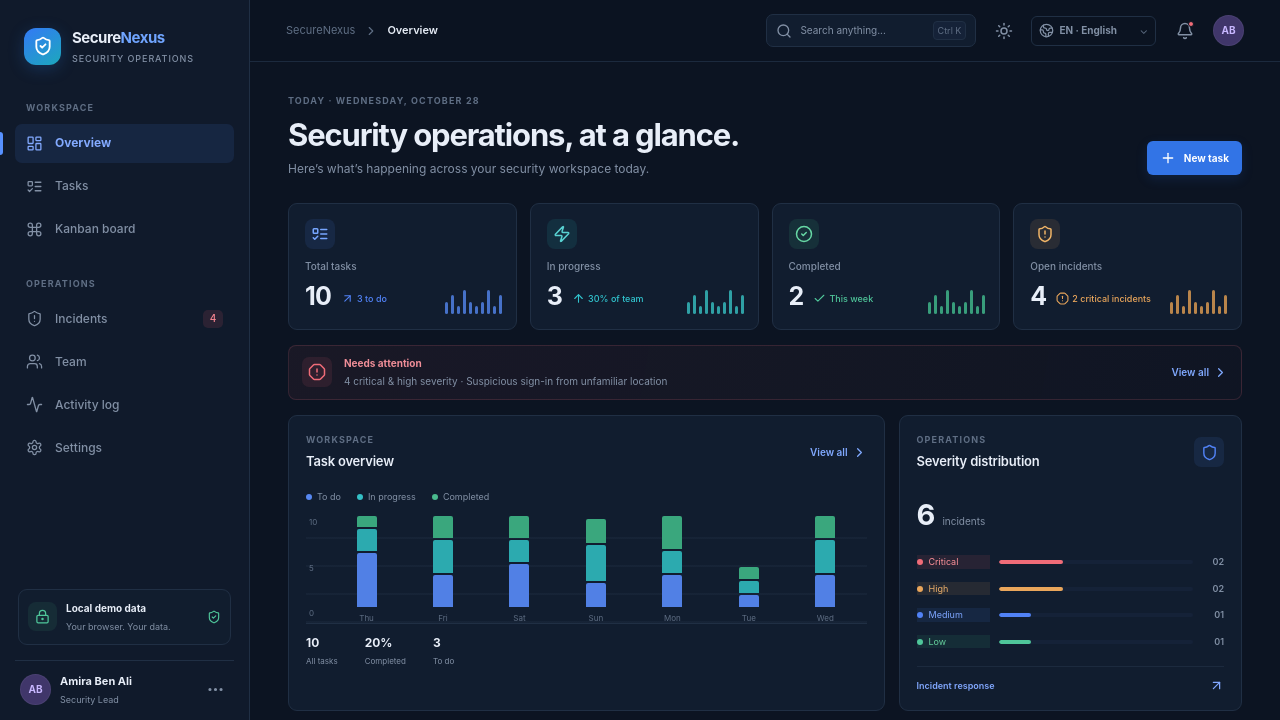
Test: creates a task and saves it to browser storage
Click the button "New task": coordinates (1194, 158) [1147,142,1242,176]
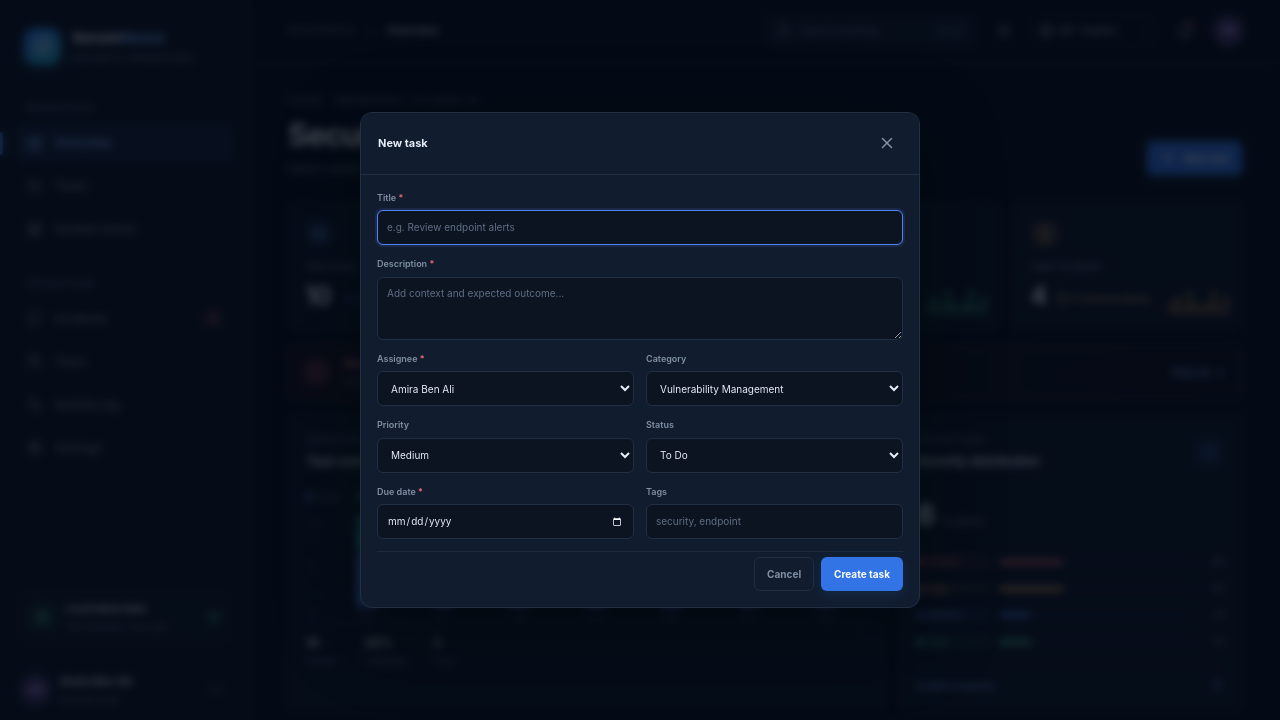
In the field with placeholder "e.g. Review endpoint alerts": coordinates (640, 228) [377,210,903,245], type "Verify backup alerts"
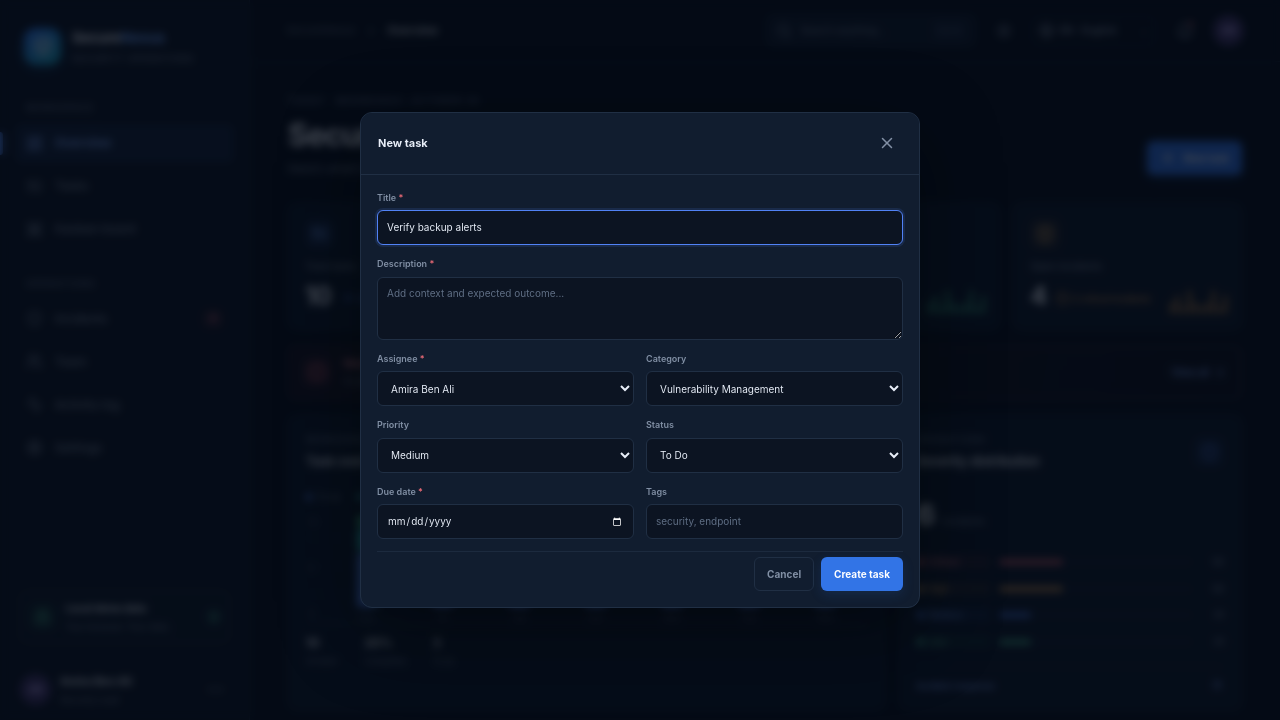
In the text box with placeholder "Add context and expected outcome...": coordinates (640, 308) [377,277,903,340], type "Check the backup monitoring workflow."
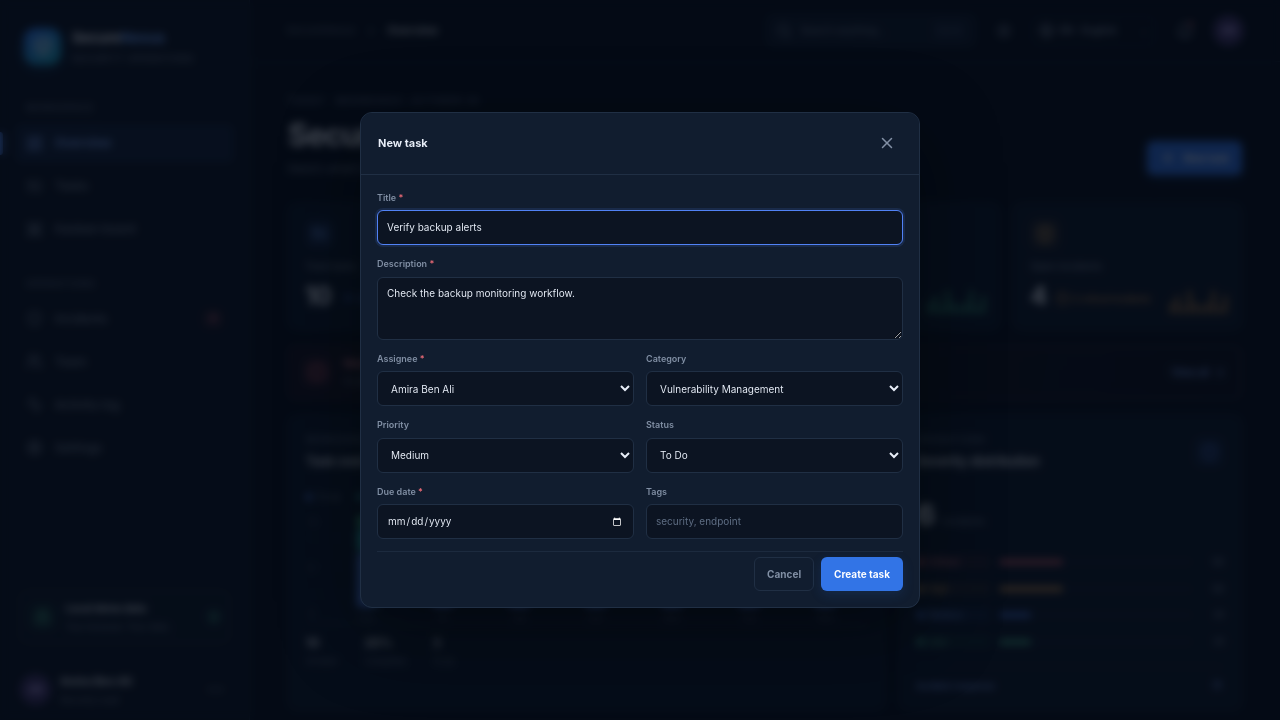
In the date field labelled "Due date *": coordinates (506, 522) [377,504,634,539], type "2026-11-05"
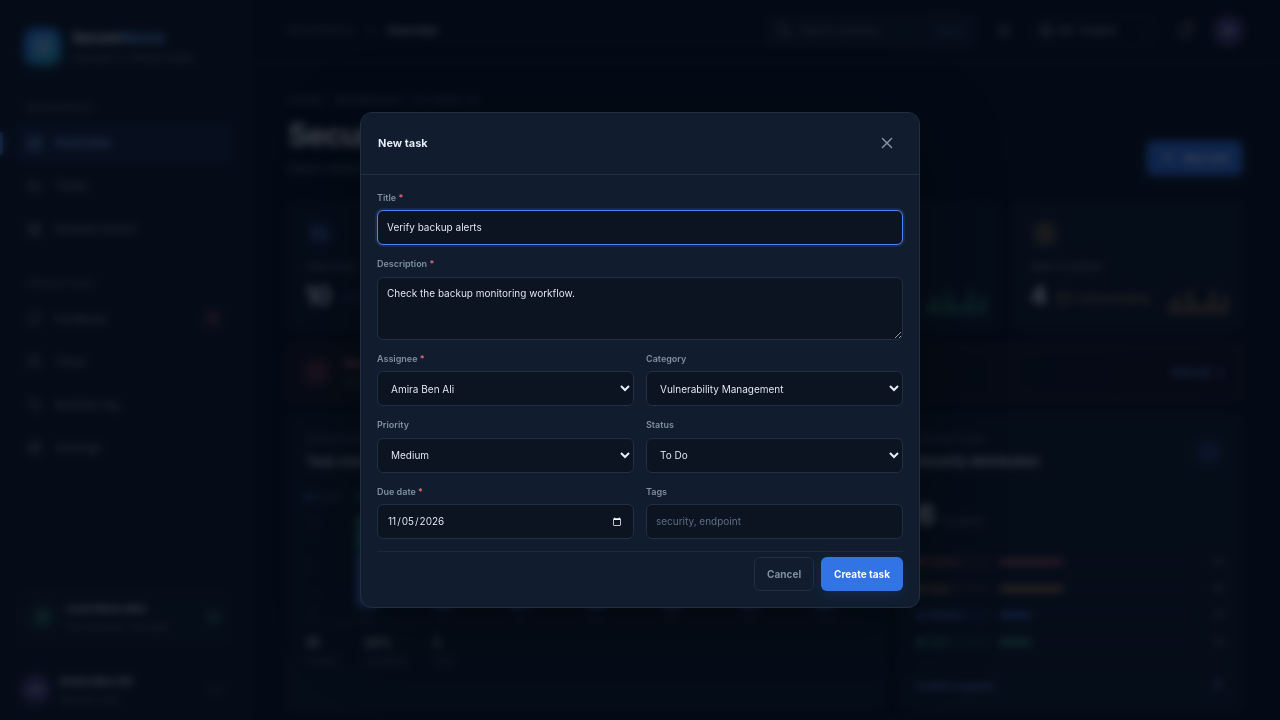
Click the button "Create task": coordinates (862, 574) [821,557,903,591]
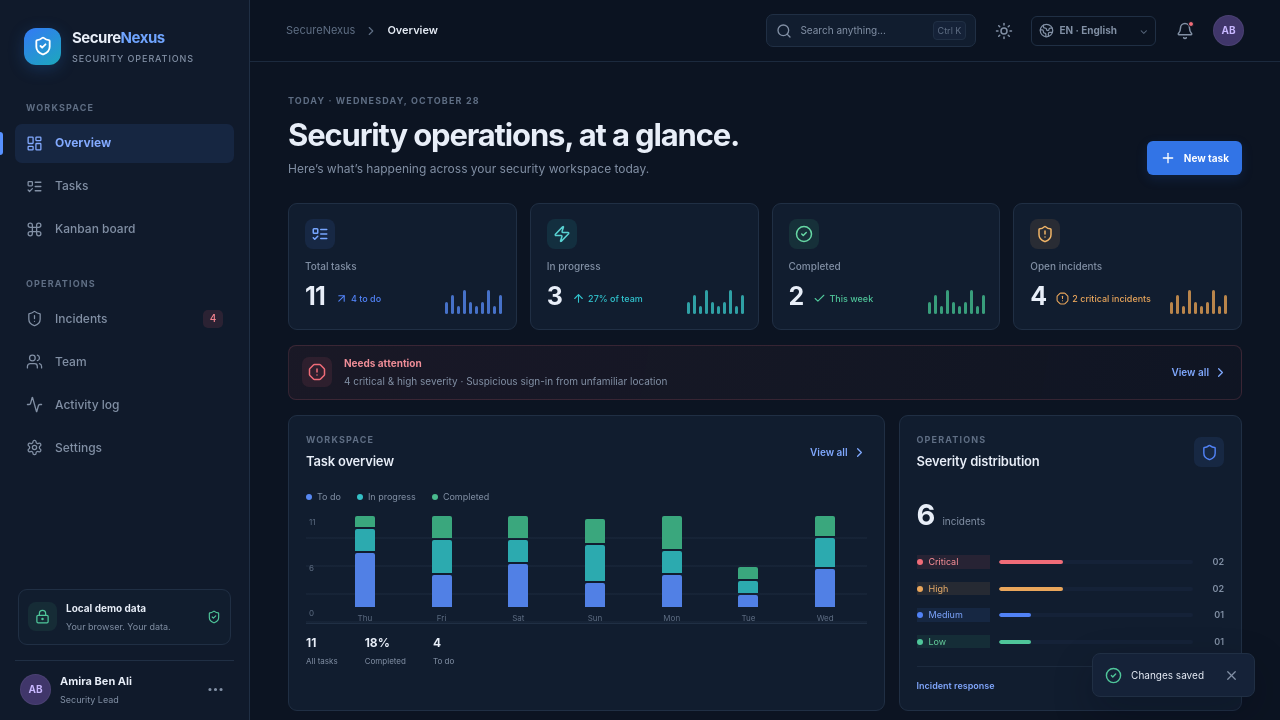
Expected: the message reads "Changes saved", [1131,668,1204,680]
